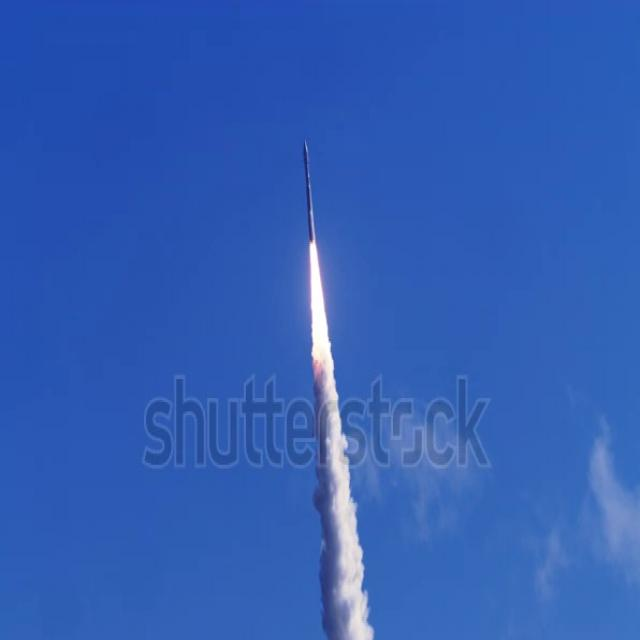rocket: (297, 133, 354, 531)
